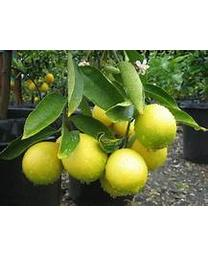lemon: (58, 135, 107, 182), (136, 102, 177, 148), (107, 149, 147, 195), (21, 145, 63, 183)
